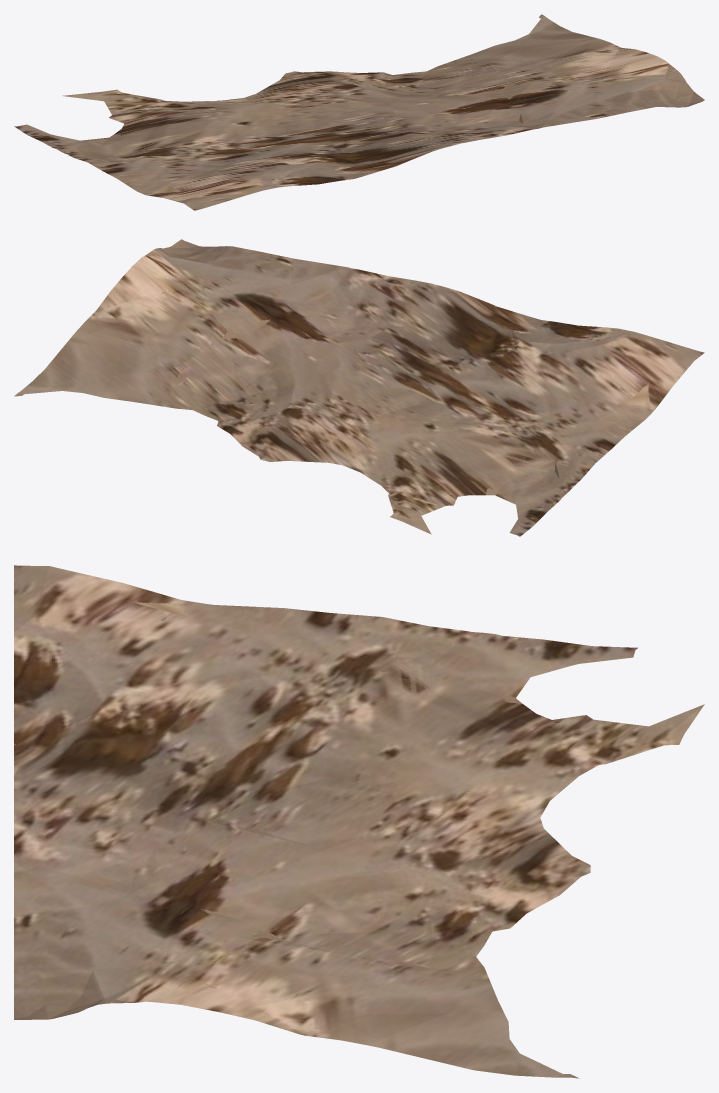
3 views of the same model, one above another, from view 1: azimuth 30°, elevation 25°; view 2: azimuth 150°, elevation 25°; view 3: azimuth 270°, elevation 25° (orthographic). The views are drawn at different scales.
Size of the model in its own units: 1.04 by 0.1001 by 0.708.
Materials: 2 (2 with a texture image).
